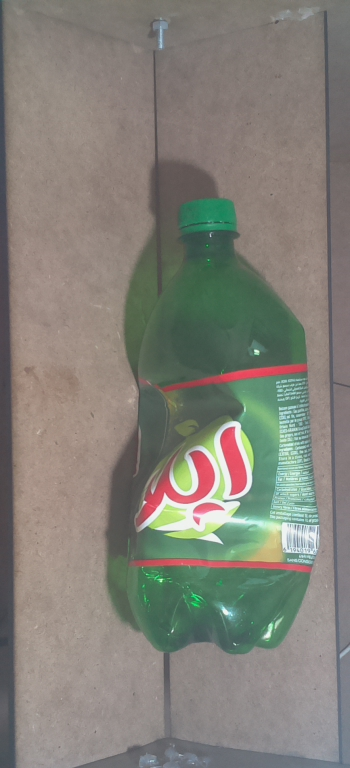Bouteille_1L: (112, 185, 330, 662)
